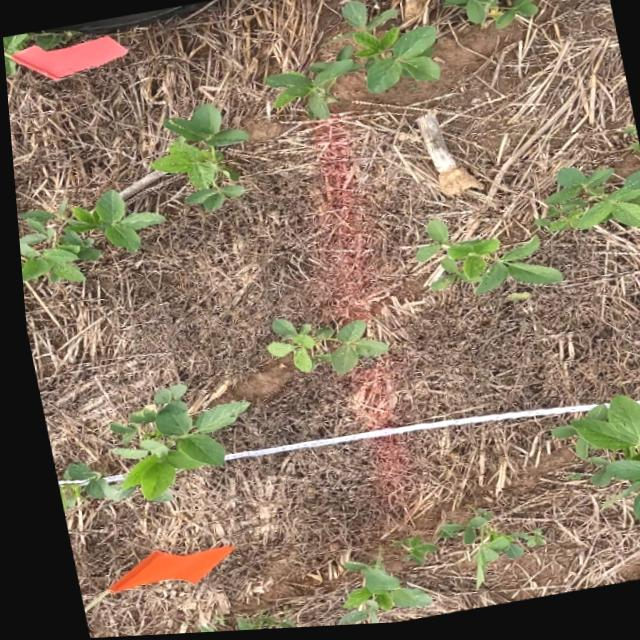soy_plant: (55, 385, 240, 504), (264, 4, 438, 122), (15, 191, 157, 283), (545, 403, 640, 534), (412, 224, 555, 298), (148, 106, 244, 212), (430, 513, 534, 592), (529, 173, 640, 238), (261, 321, 381, 377), (329, 565, 420, 627), (2, 31, 78, 74), (440, 0, 543, 31), (383, 540, 427, 569), (224, 617, 283, 633)
